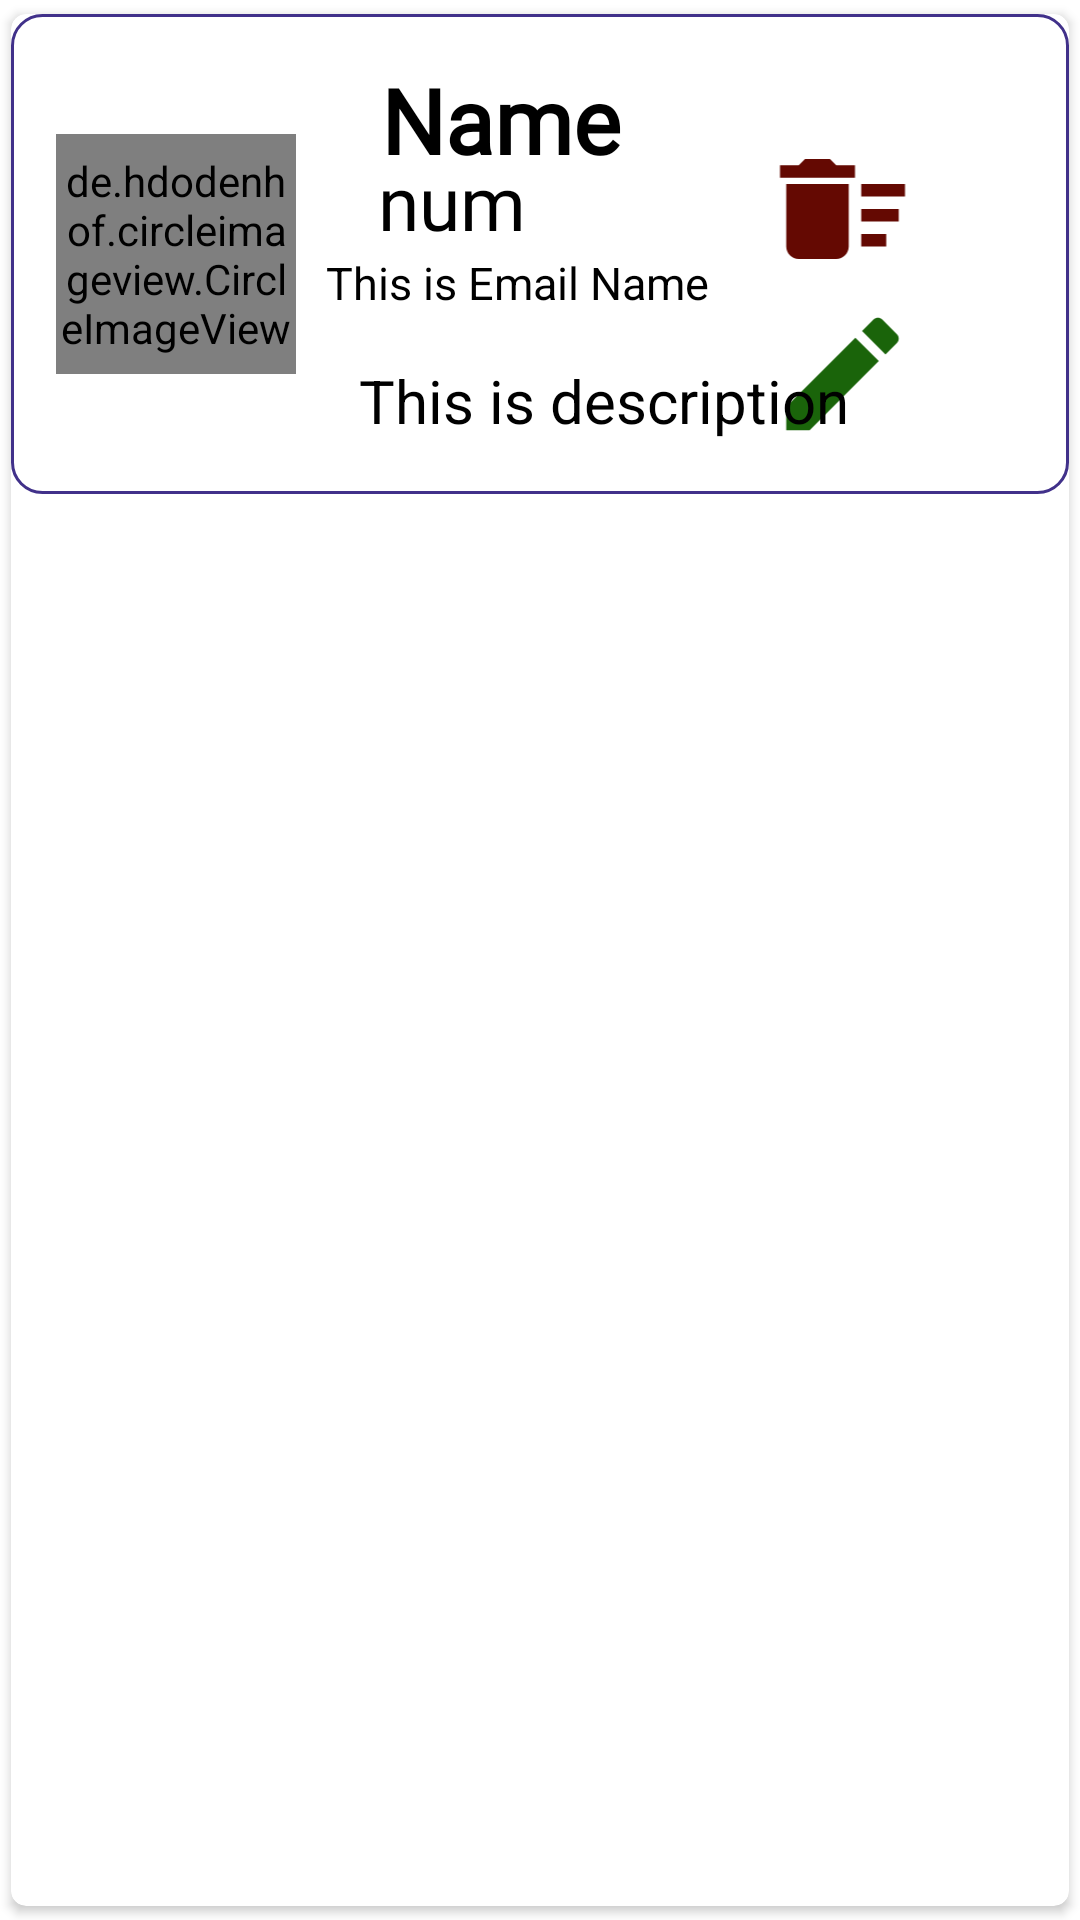

Point at icon controls on the screen. Image size 1080*1920, points as point (x, y).
deleted: point (842, 209)
